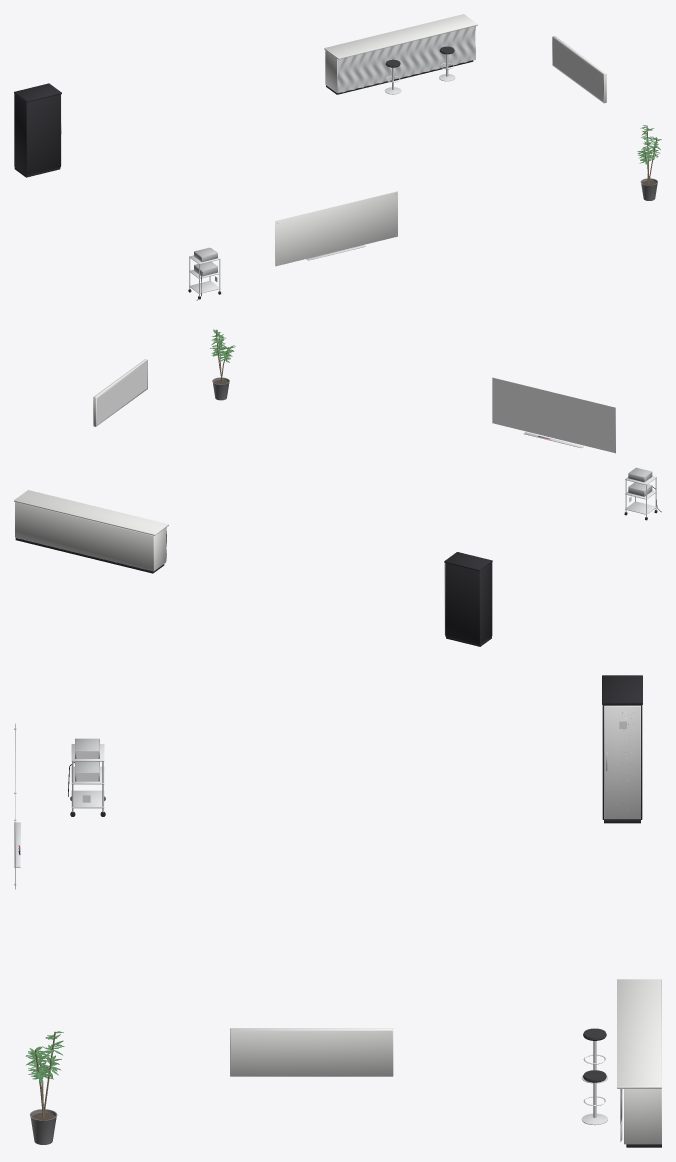
Rendered from Lab_Interior.fbx.
3 views of the same model, one above another, from view 1: azimuth 30°, elevation 25°; view 2: azimuth 150°, elevation 25°; view 3: azimuth 270°, elevation 25° (orthographic). The views are drawn at different scales.
Visible parts, largest first — view 1: Lab_Interior; view 2: Lab_Interior; view 3: Lab_Interior.
Boxes of the visible parts, box(x1,y1,x2,y2) form: Lab_Interior: box(14, 14, 661, 300); Lab_Interior: box(14, 329, 661, 646); Lab_Interior: box(14, 675, 661, 1147).
Size of the model in its own units: 12.83 by 2.07 by 9.85.
